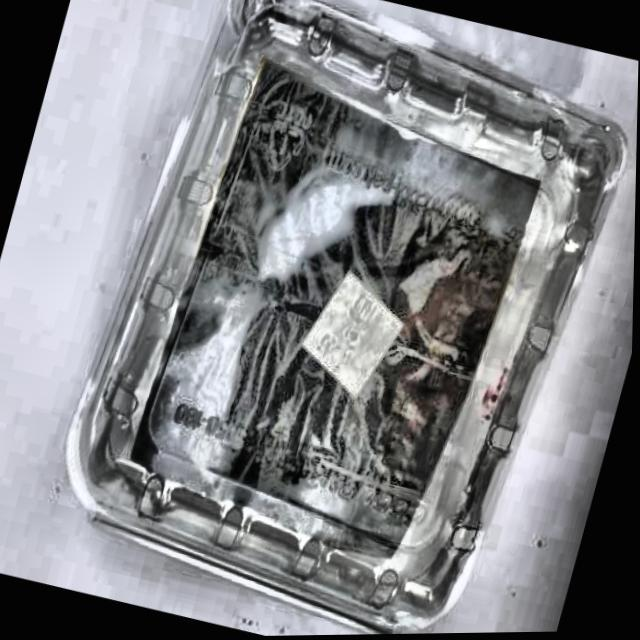Plastic: (25, 0, 640, 640)
